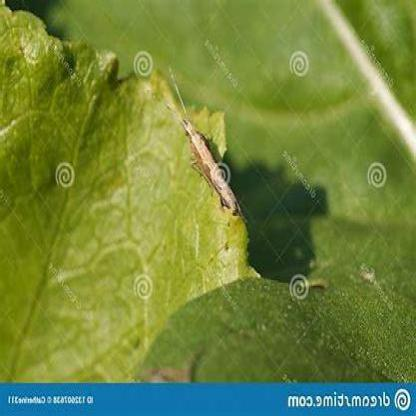plutella: (153, 68, 248, 226)
